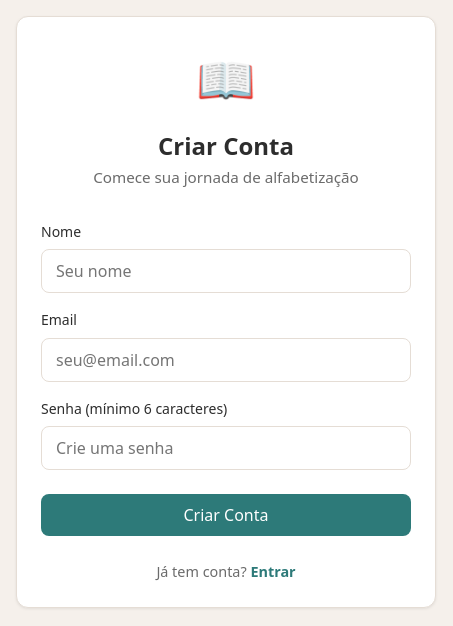
Test: Register page › shows loading state during registration
The width and height of the screenshot is (453, 626).
Type "Test" into the field with placeholder "Seu nome" at point(226, 271), box [41,249,411,293]
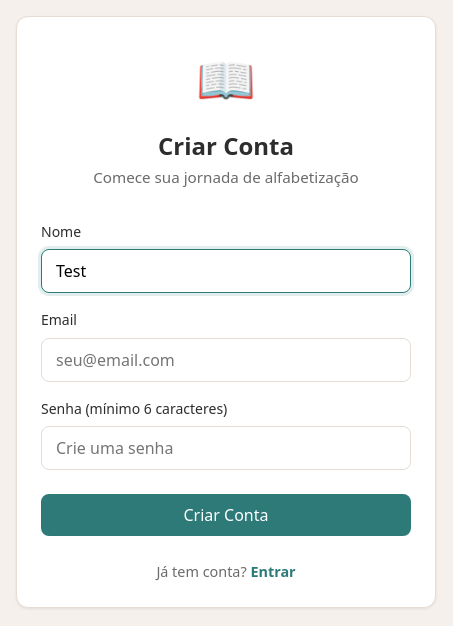
Type "test@test.com" into the field with placeholder "seu@email.com" at point(226, 360), box [41,338,411,382]
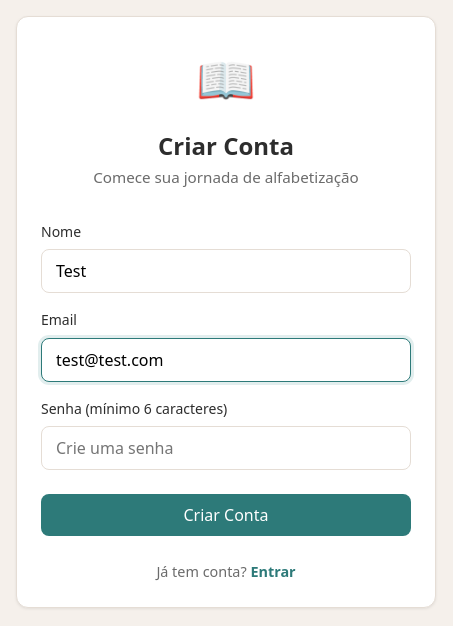
Type "123456" into the password field with placeholder "Crie uma senha" at point(226, 448), box [41,426,411,470]
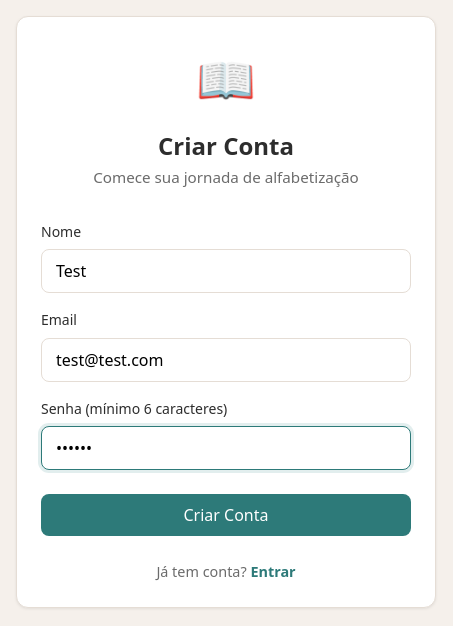
Click the button "Criar Conta" at point(226, 515), box [41,494,411,536]
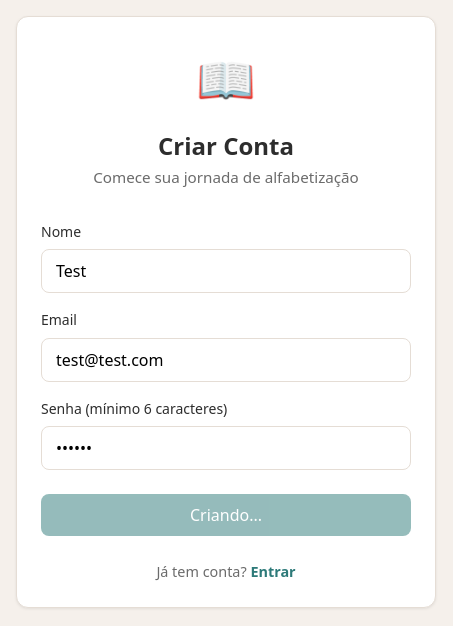
Result: the button "Criando..." is disabled at [41,494,411,536]
